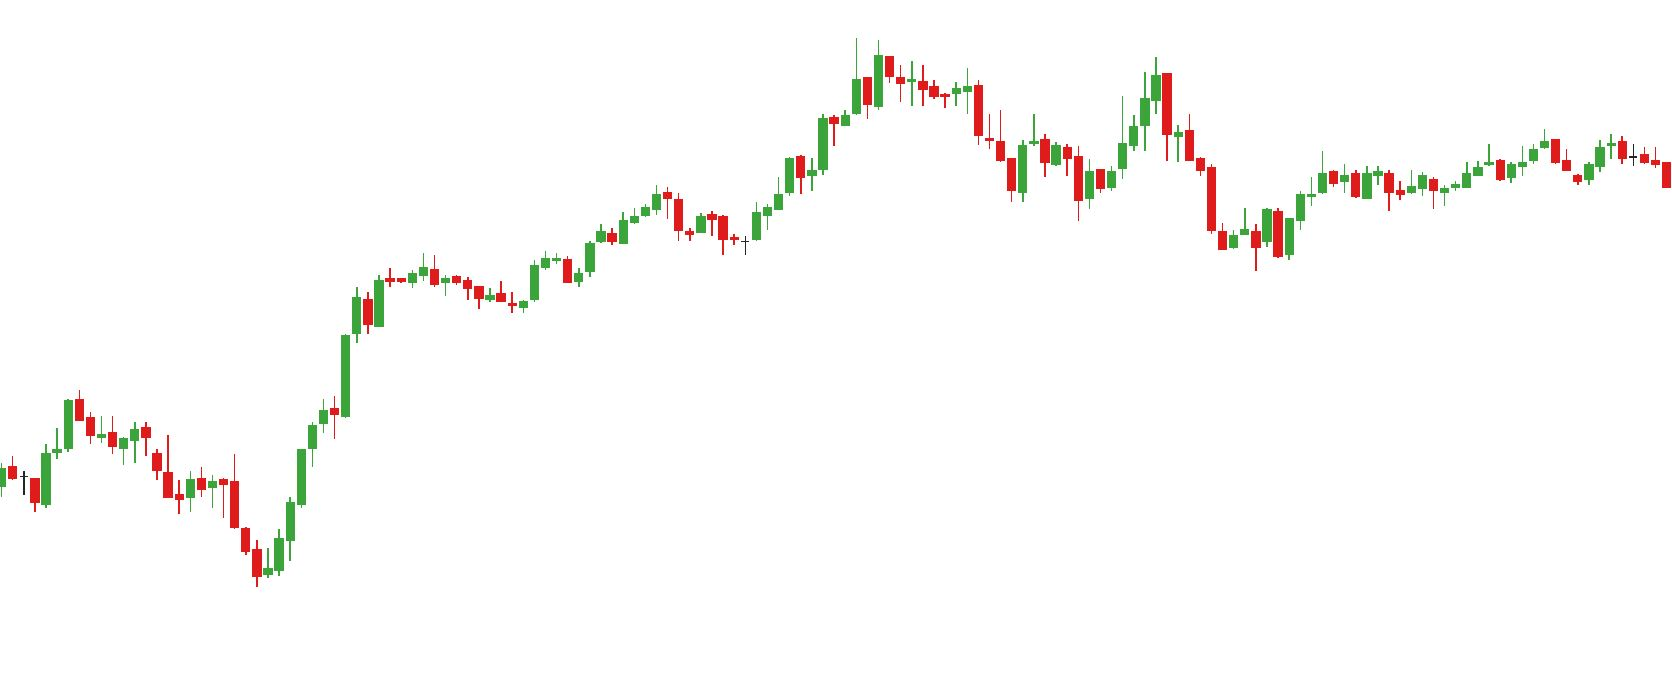buy: (1007, 138, 1096, 228)
